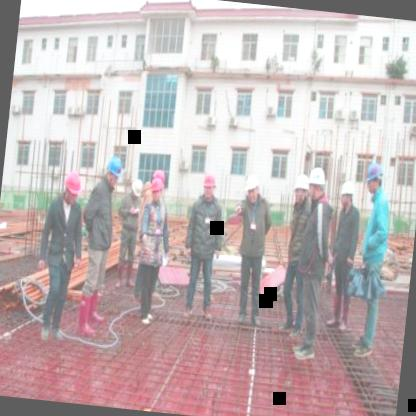helmet: (58, 167, 86, 209), (362, 158, 386, 198), (305, 164, 329, 204), (290, 170, 312, 209), (102, 154, 125, 190), (242, 172, 262, 207), (338, 176, 357, 210), (199, 169, 218, 201), (127, 176, 145, 202), (150, 167, 168, 189), (150, 177, 164, 203)
